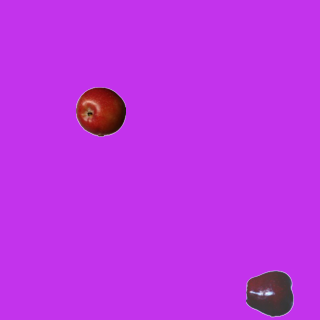Apple Braeburn: (75, 86, 125, 136)
Apple Red Delicious: (245, 268, 295, 318)
